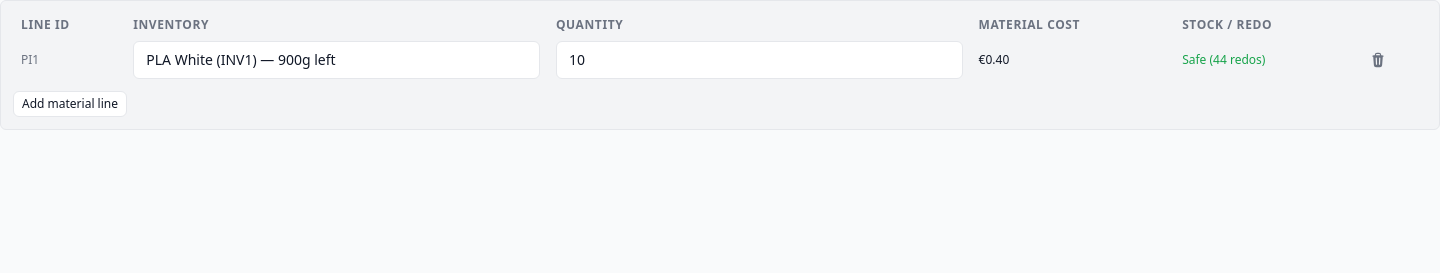
Test: PieceItemsTable › rejects a draft on an inventory the piece already uses
Click the button with test id "add-line-P1": coordinates (70, 104) [13,91,127,117]
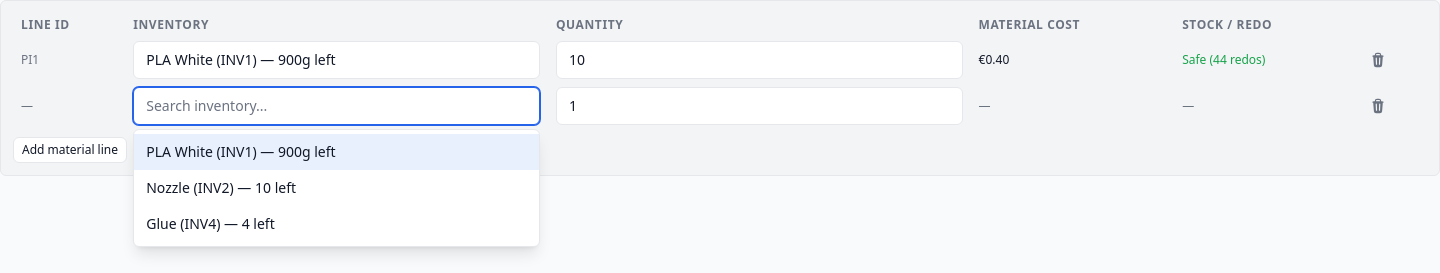
Click the option "PLA White (INV1) — 900g left": coordinates (337, 152) [134,134,539,170]
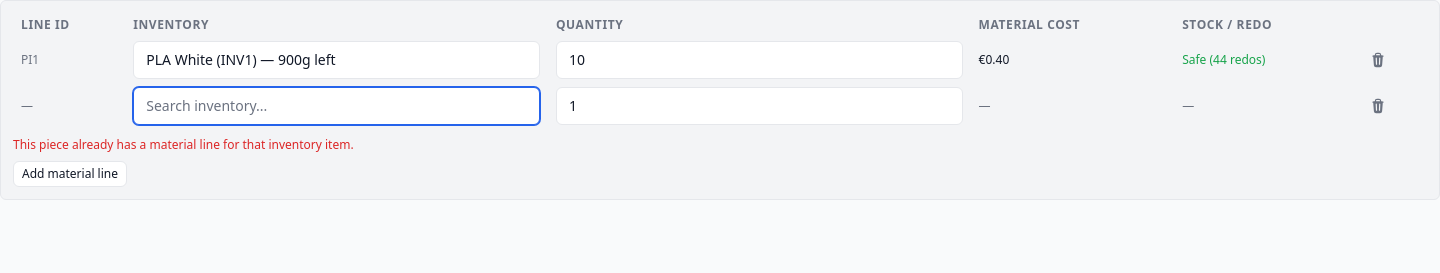
Expected: the row with test id "piece-item-draft-P1" is shown, [13,83,1427,129]
Expected: the message reads "This piece already has a material line for that inventory item.", [13,136,354,153]
